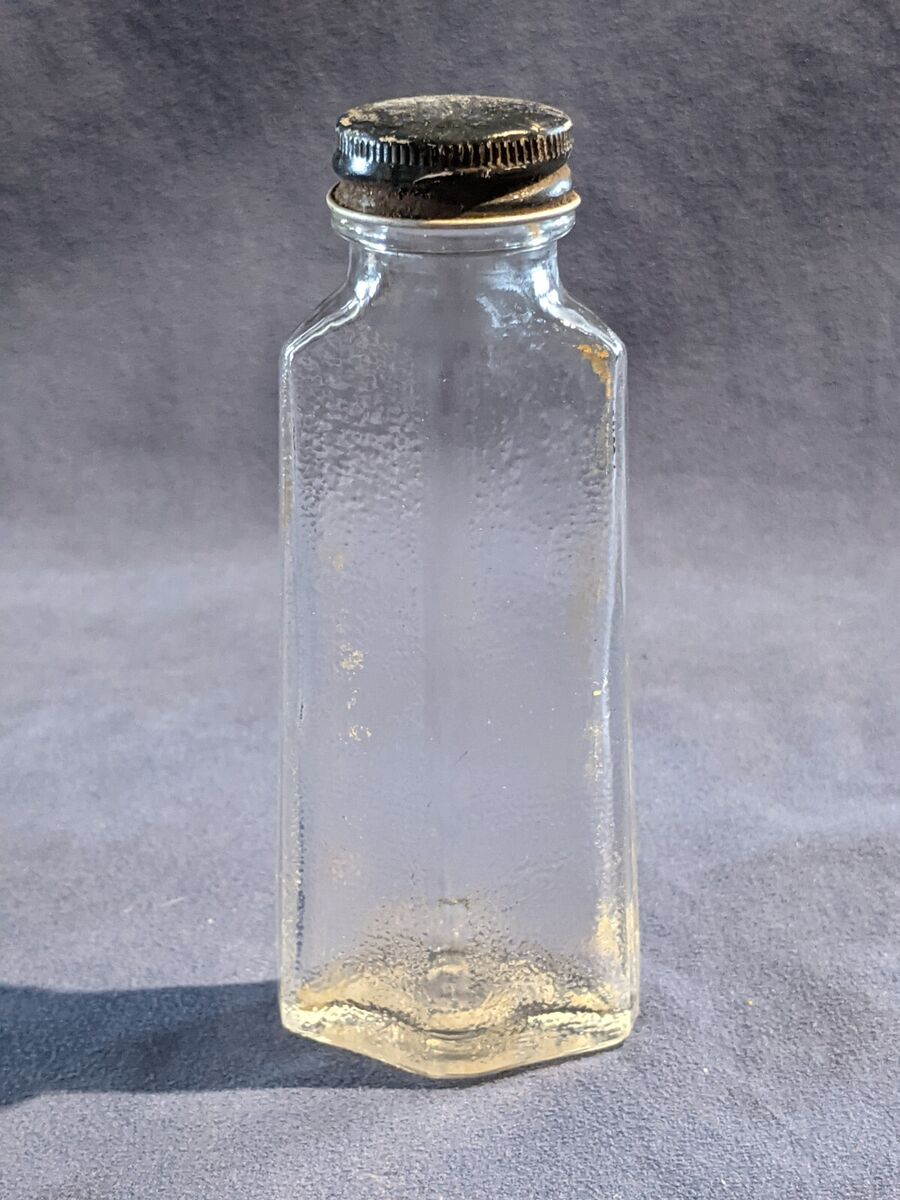glass_bottle: (244, 74, 661, 1098)
